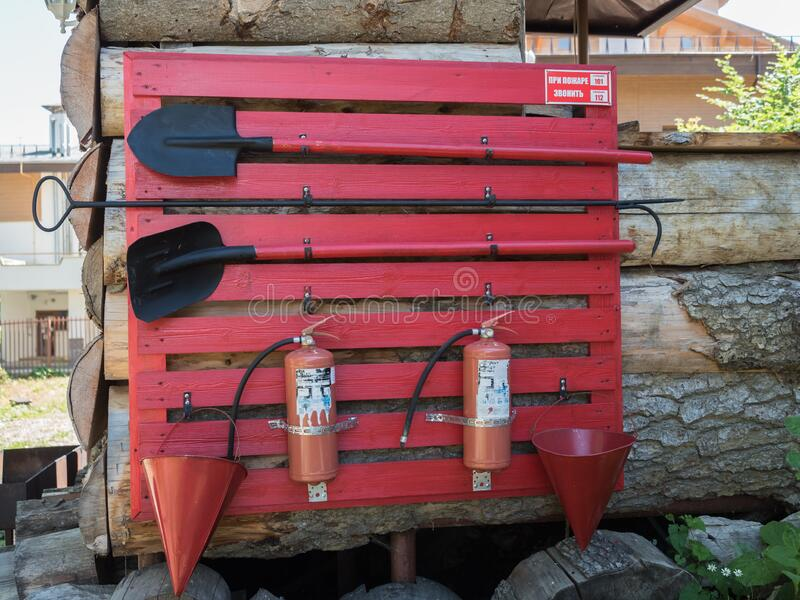fire_extinguisher: (228, 317, 358, 503), (399, 321, 519, 491)
